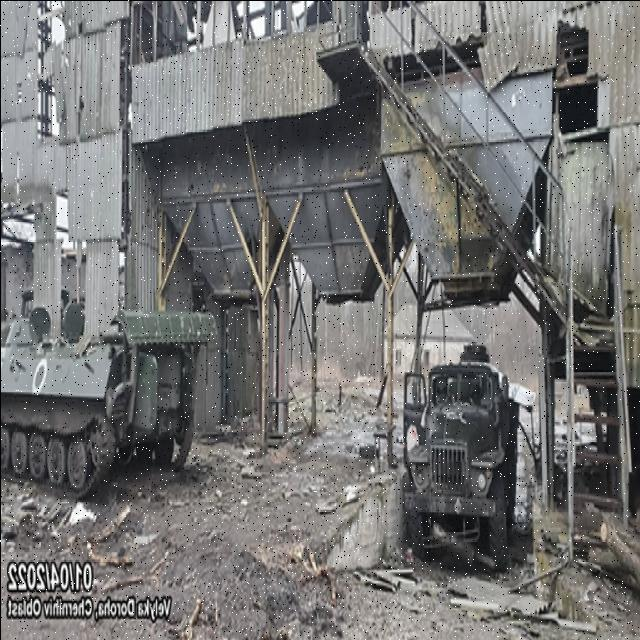APC-IFV: (1, 291, 221, 493)
TRUCK: (395, 336, 527, 574)
